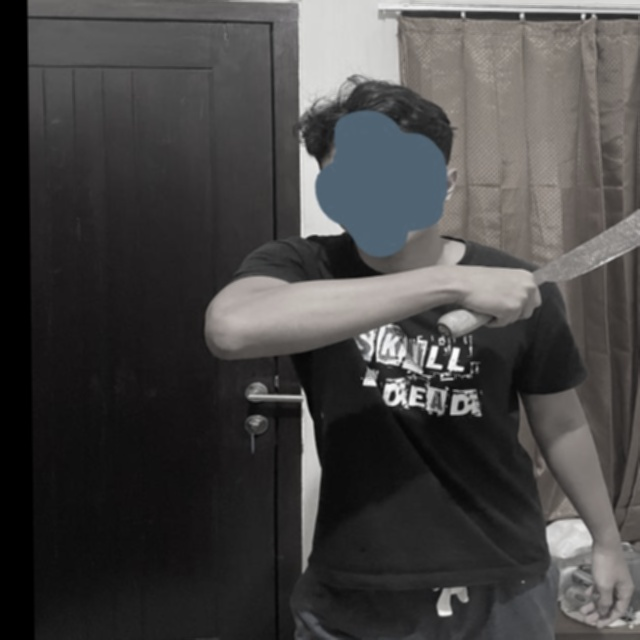Sharp-Object: (434, 205, 640, 342)
